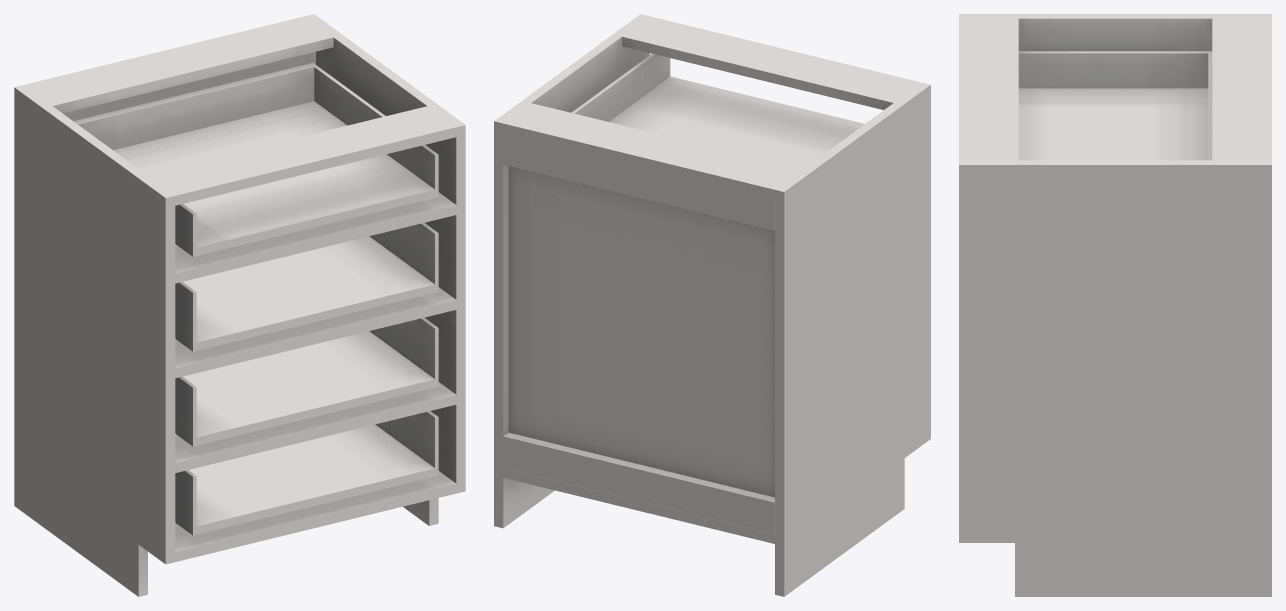
Rendered from 4-drawer-vanity-doors-off.glb.
3 views of the same model, side by side, from view 1: azimuth 30°, elevation 25°; view 2: azimuth 150°, elevation 25°; view 3: azimuth 270°, elevation 25° (orthographic). The views are drawn at different scales.
Visible parts, largest first — view 1: part_0, part_1; view 2: part_0, part_1; view 3: part_0, part_1.
Part boxes in pixels (x1,y1,x2,y2): part_0: (14, 14, 465, 596); part_1: (73, 63, 438, 535); part_0: (494, 14, 930, 596); part_1: (571, 53, 864, 169); part_0: (959, 14, 1271, 596); part_1: (1018, 51, 1212, 160).
Size of the model in its own units: 0.6096 by 0.8128 by 0.5335.
Materials: 2 (1 with a texture image).
